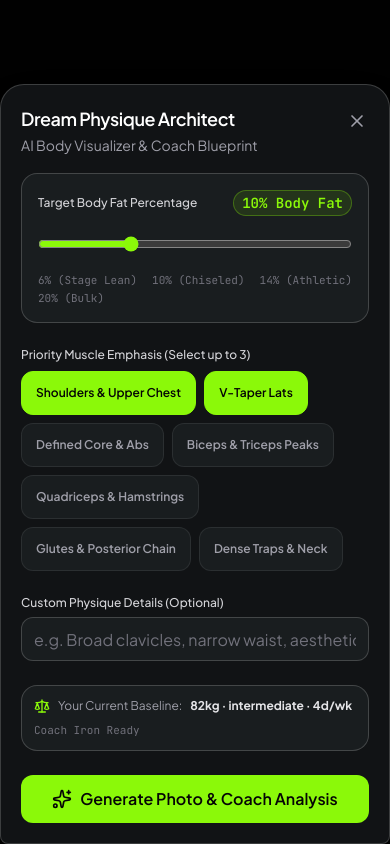
Test: DreamPhysiqueModal (on ui/Modal) › reports a failed generation with a toast and stays on the configuration step
(page scrolled)
Click the button "Generate Photo & Coach Analysis" at (195, 799), box [21,775,369,823]
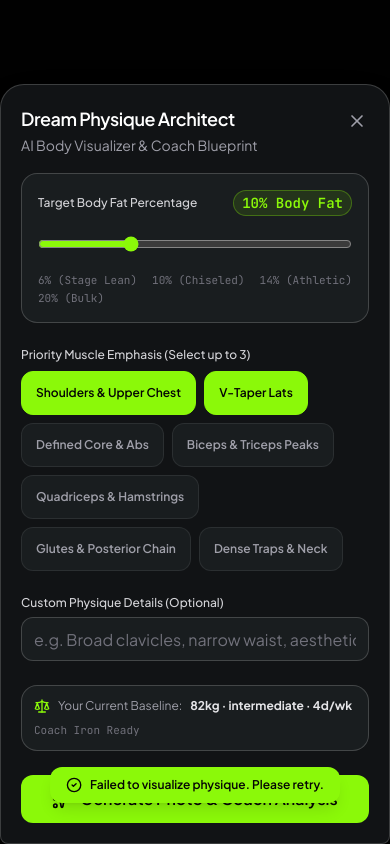
Expected: the message "Failed to visualize physique. Please retry." is shown, [50,767,340,803]
